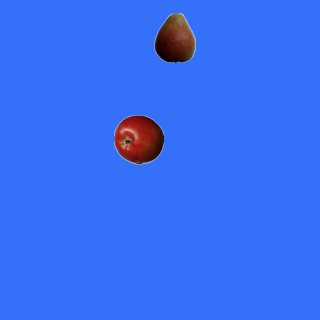Apple Braeburn: (113, 114, 163, 164)
Pear Forelle: (149, 12, 199, 62)
